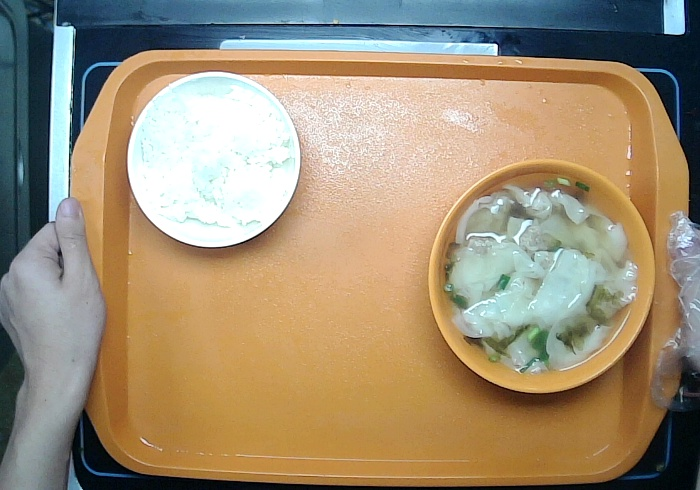NLDX-Fan_Wan: (126, 66, 304, 250)
NLDX-Hun_Tun_Wan: (426, 154, 658, 398)
